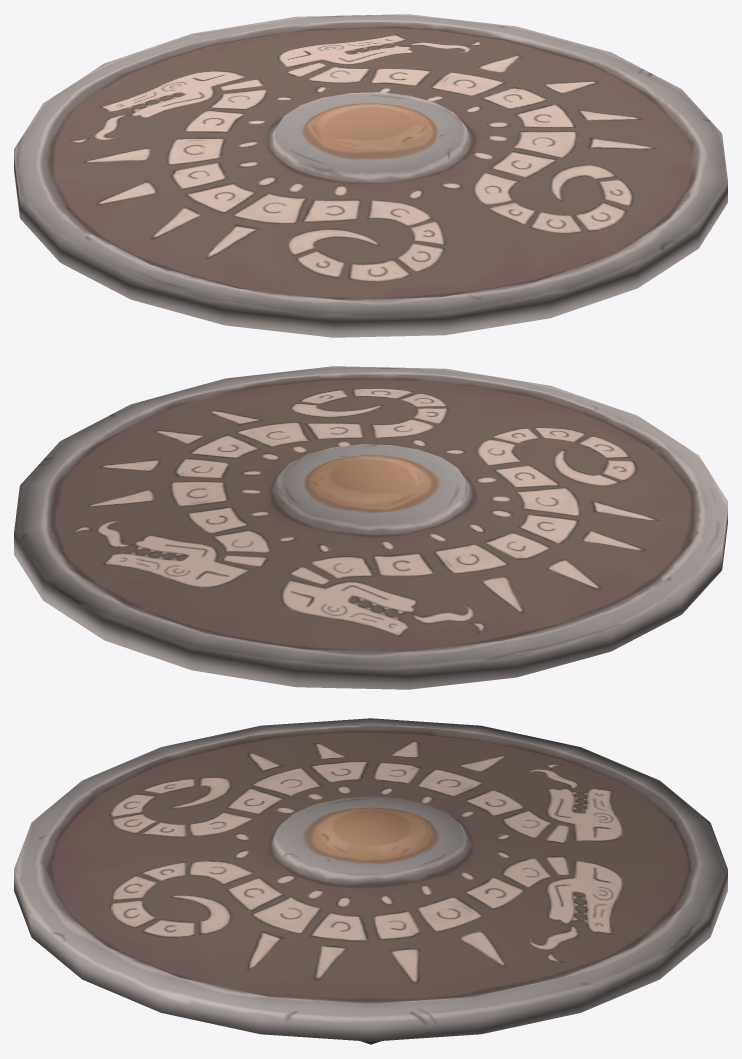
The model's file is escudo.fbx.
3 views of the same model, one above another, from view 1: azimuth 30°, elevation 25°; view 2: azimuth 150°, elevation 25°; view 3: azimuth 270°, elevation 25° (orthographic).
Parts seen in each view (by area): view 1: mesh_shield; view 2: mesh_shield; view 3: mesh_shield.
Boxes of the visible parts, x1,y1,x2,y2 form: mesh_shield: (14, 14, 727, 337); mesh_shield: (14, 366, 727, 689); mesh_shield: (14, 718, 727, 1044).
Bounding box in the file's own units: 53.44 × 12.73 × 53.44.
Materials: 1 (1 with a texture image).
